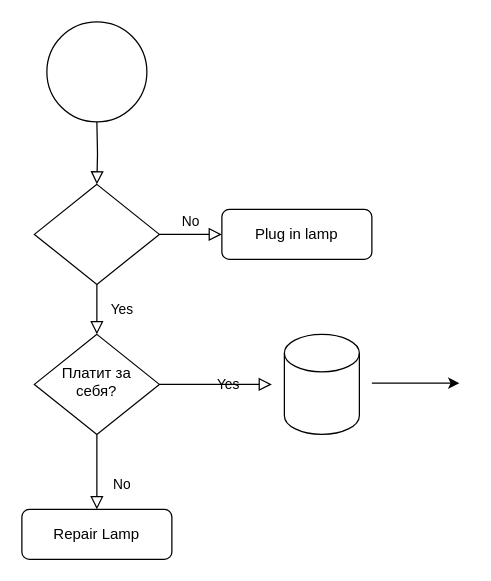
Some shapes in this 491 by 581 pixel diagram are drawn without their labels. Each missing label, with the box of its shape:
Извлечь данные: (283, 333, 359, 434)
уже зарегистри рован?: (33, 183, 159, 284)
